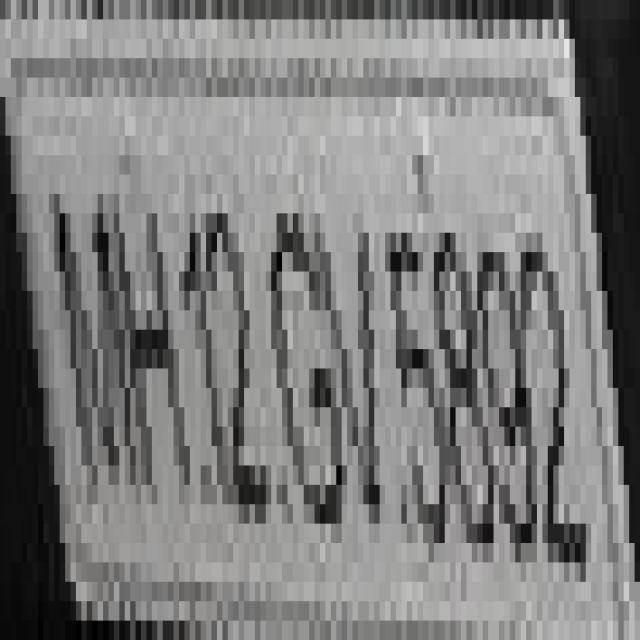license_plate: (21, 77, 640, 620)
